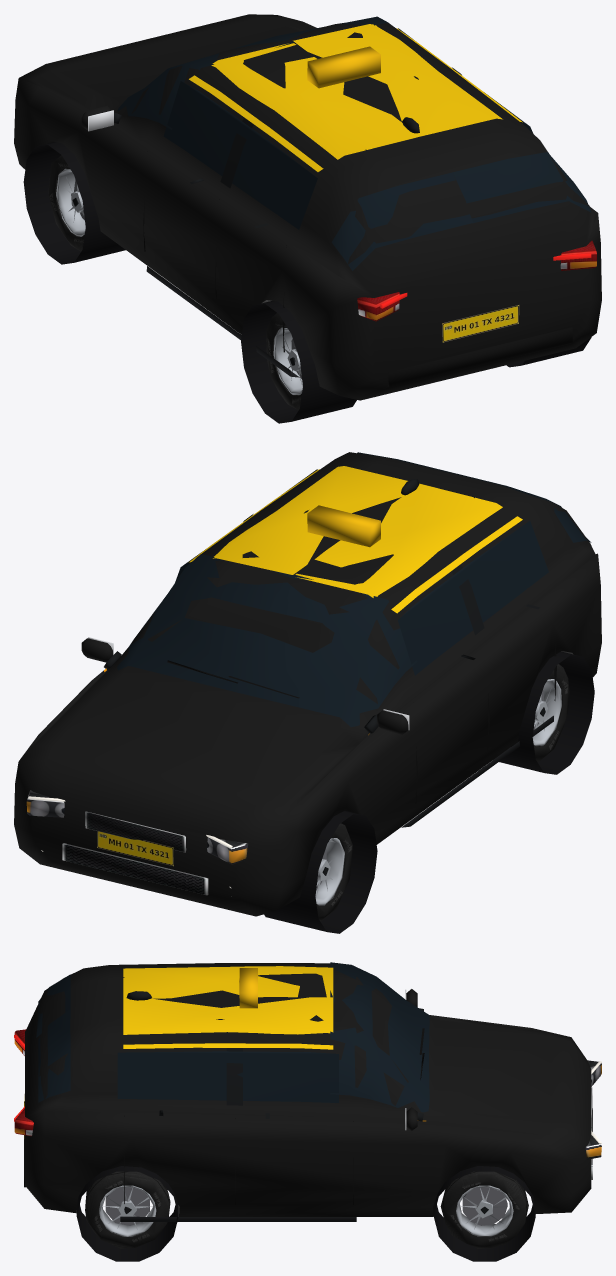
File: taxi_far.glb
3 renders of one model, top to bottom at view 1: azimuth 30°, elevation 25°; view 2: azimuth 150°, elevation 25°; view 3: azimuth 270°, elevation 25°, orthographic. The views are drawn at different scales.
Visible parts, largest first — view 1: hatch_CarPaint, hatch_Parts, hatch_Glass, hatch_Roof, hatch_Tyre; view 2: hatch_CarPaint, hatch_Glass, hatch_Parts, hatch_Roof, hatch_Tyre; view 3: hatch_CarPaint, hatch_Glass, hatch_Parts, hatch_Roof, hatch_Tyre.
Boxes of the visible parts, x1,y1,x2,y2 form: hatch_CarPaint: (14,14,601,400); hatch_Parts: (23,46,596,423); hatch_Glass: (117,16,591,270); hatch_Roof: (189,24,522,171); hatch_Tyre: (48,155,301,410); hatch_CarPaint: (14,452,601,916); hatch_Glass: (117,452,591,726); hatch_Parts: (26,479,594,933); hatch_Roof: (189,466,522,613); hatch_Tyre: (316,664,569,921); hatch_CarPaint: (25,963,591,1216); hatch_Glass: (36,962,429,1112); hatch_Parts: (14,968,601,1261); hatch_Roof: (123,966,333,1049); hatch_Tyre: (85,1171,528,1248).
Bounding box in the file's own units: 2.13 × 1.69 × 4.03.
6 materials, 3 textured.
